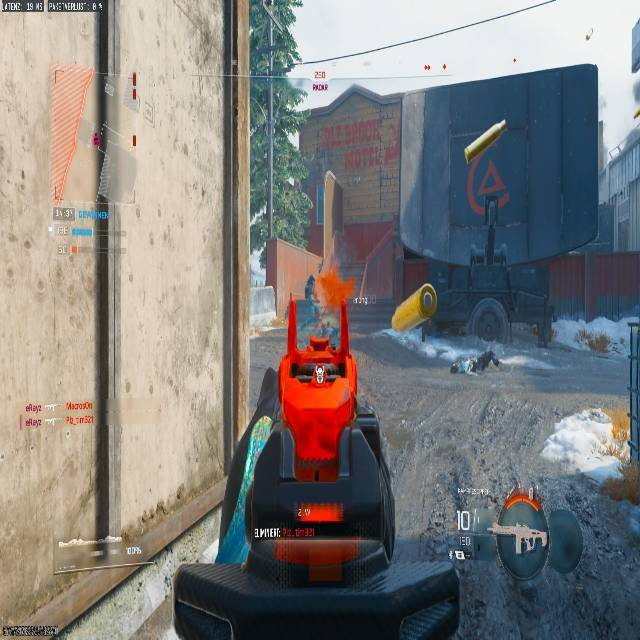head: (450, 361, 460, 374)
player: (299, 268, 325, 329), (305, 274, 316, 306)
